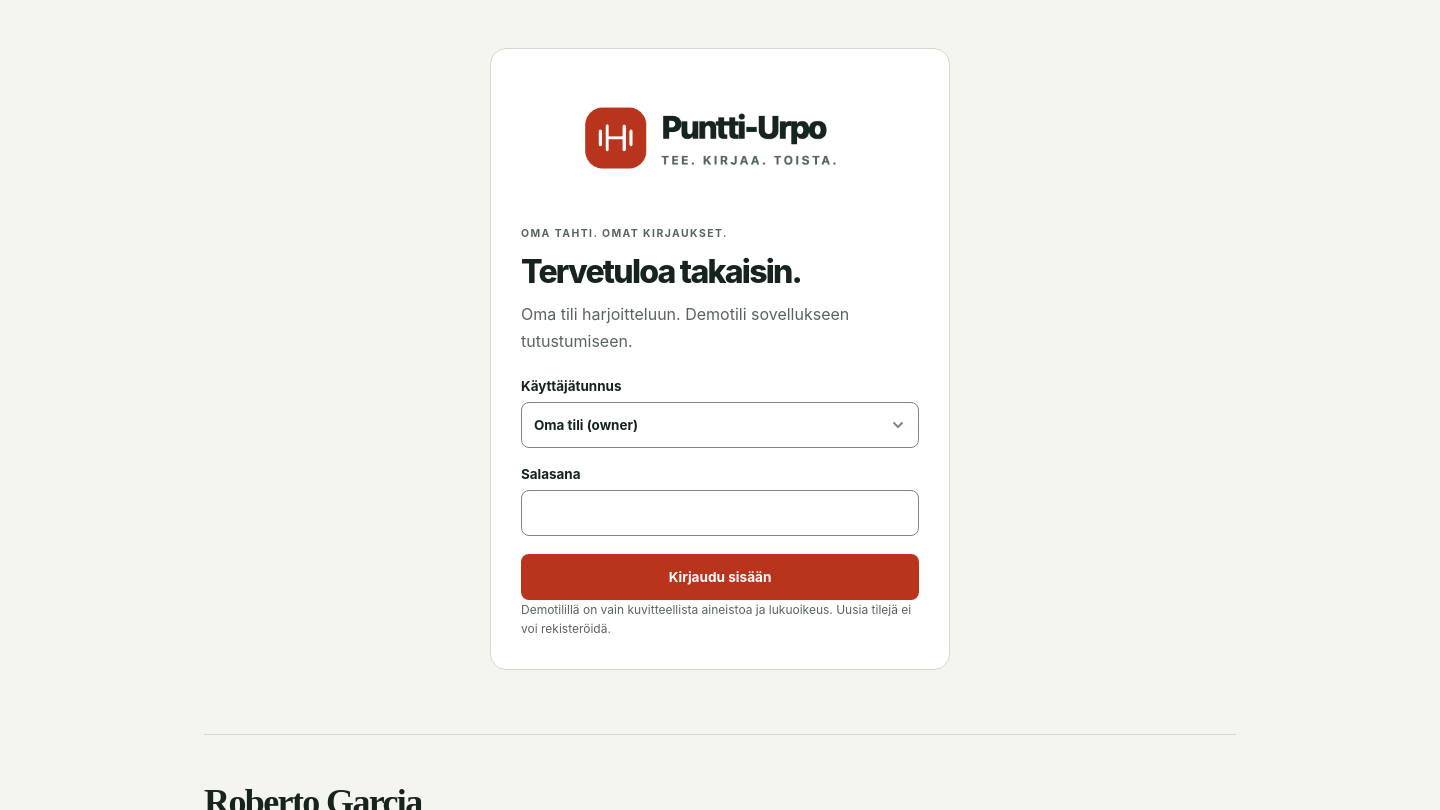
it: logs in with CSRF, refreshes the token, then clears private UI on logout
Expected: the button "Kirjaudu sisään" is shown, [521, 554, 919, 600]
Type "not-a-real-password" into the password field labelled "Salasana".
click(720, 513); type("not-a-real-password")  # box [521, 490, 919, 536]
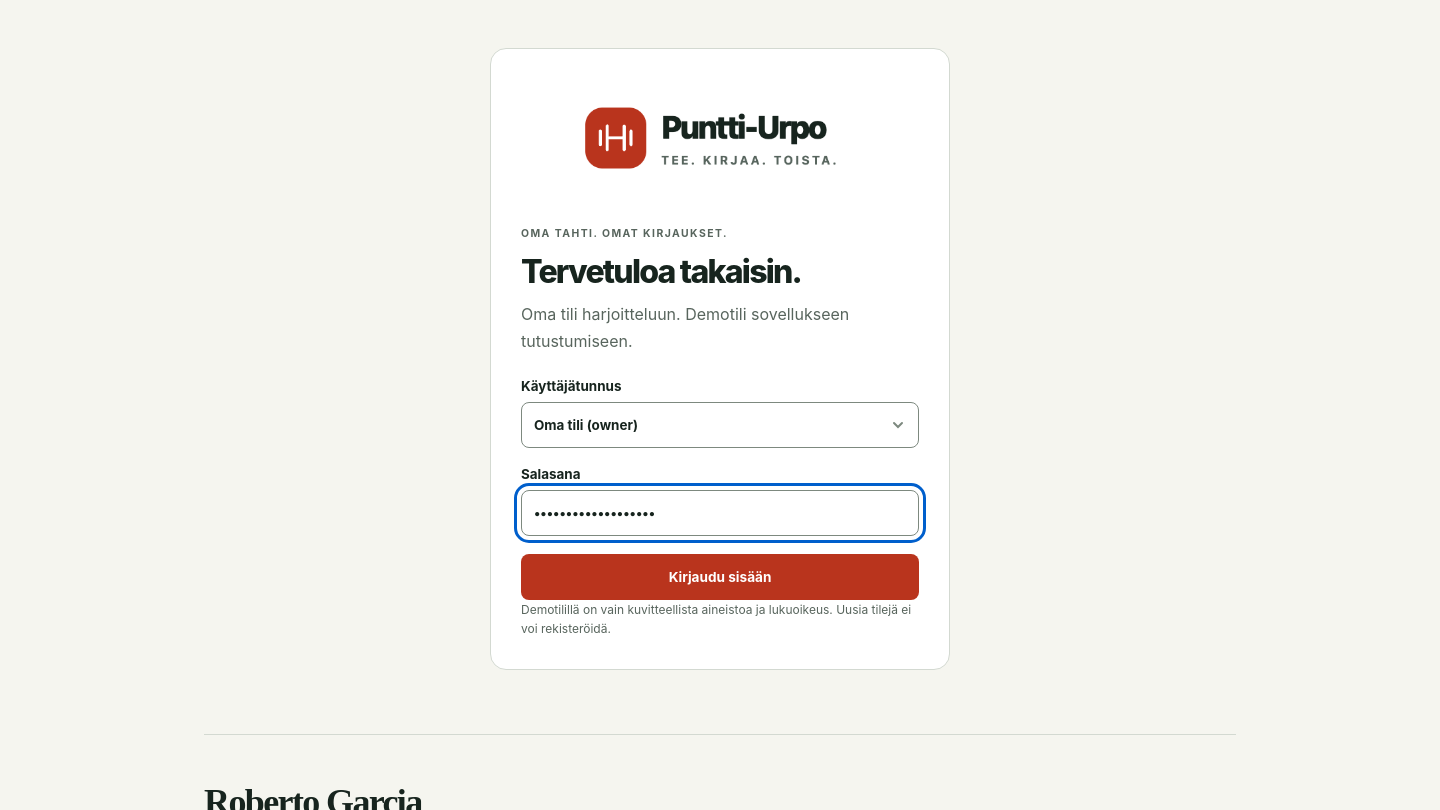
Click the button "Kirjaudu sisään".
click(720, 577)  # box [521, 554, 919, 600]
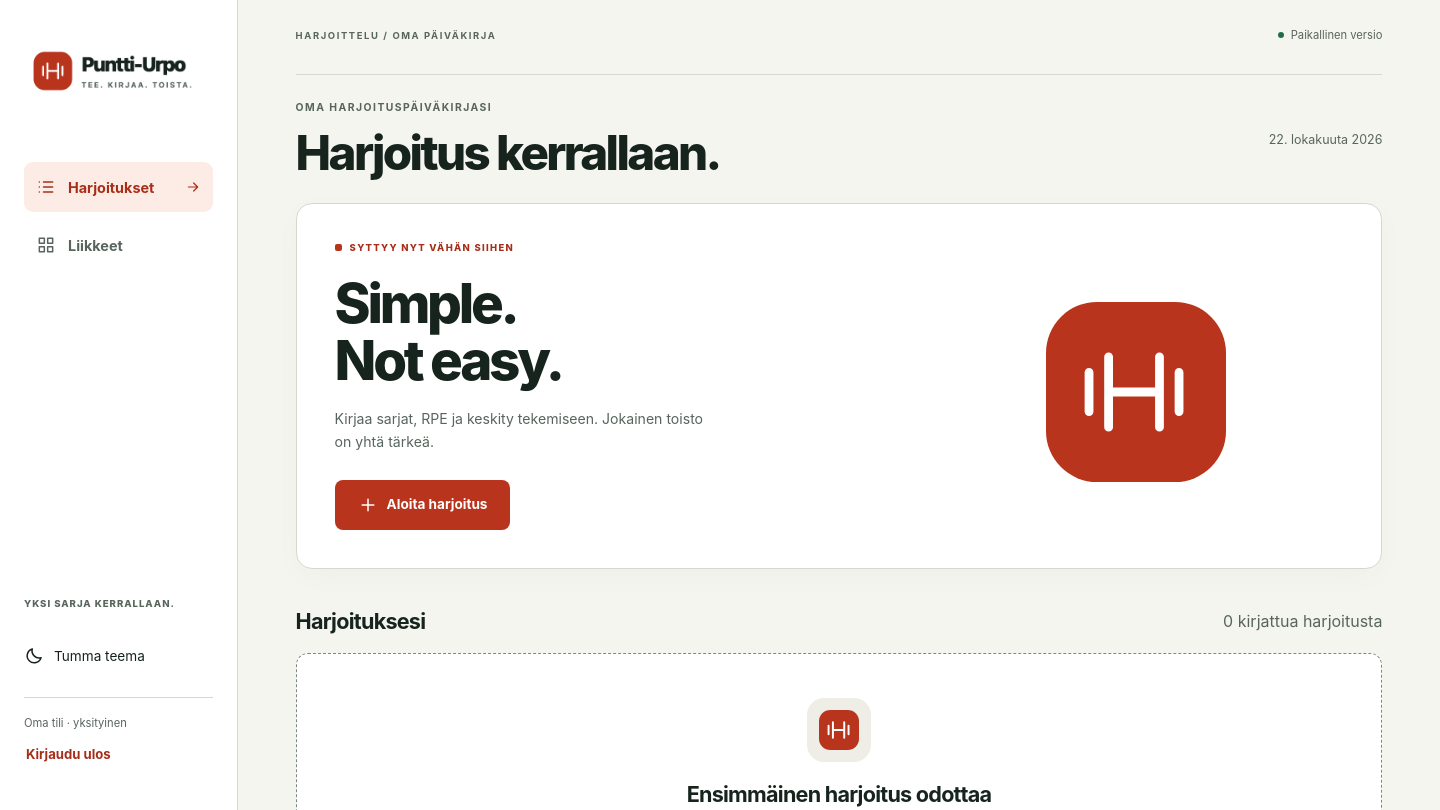
Result: the heading "Ensimmäinen harjoitus odottaa" is shown at [687, 781, 991, 807]
Click the button "Kirjaudu ulos".
click(68, 754)  # box [24, 732, 113, 776]
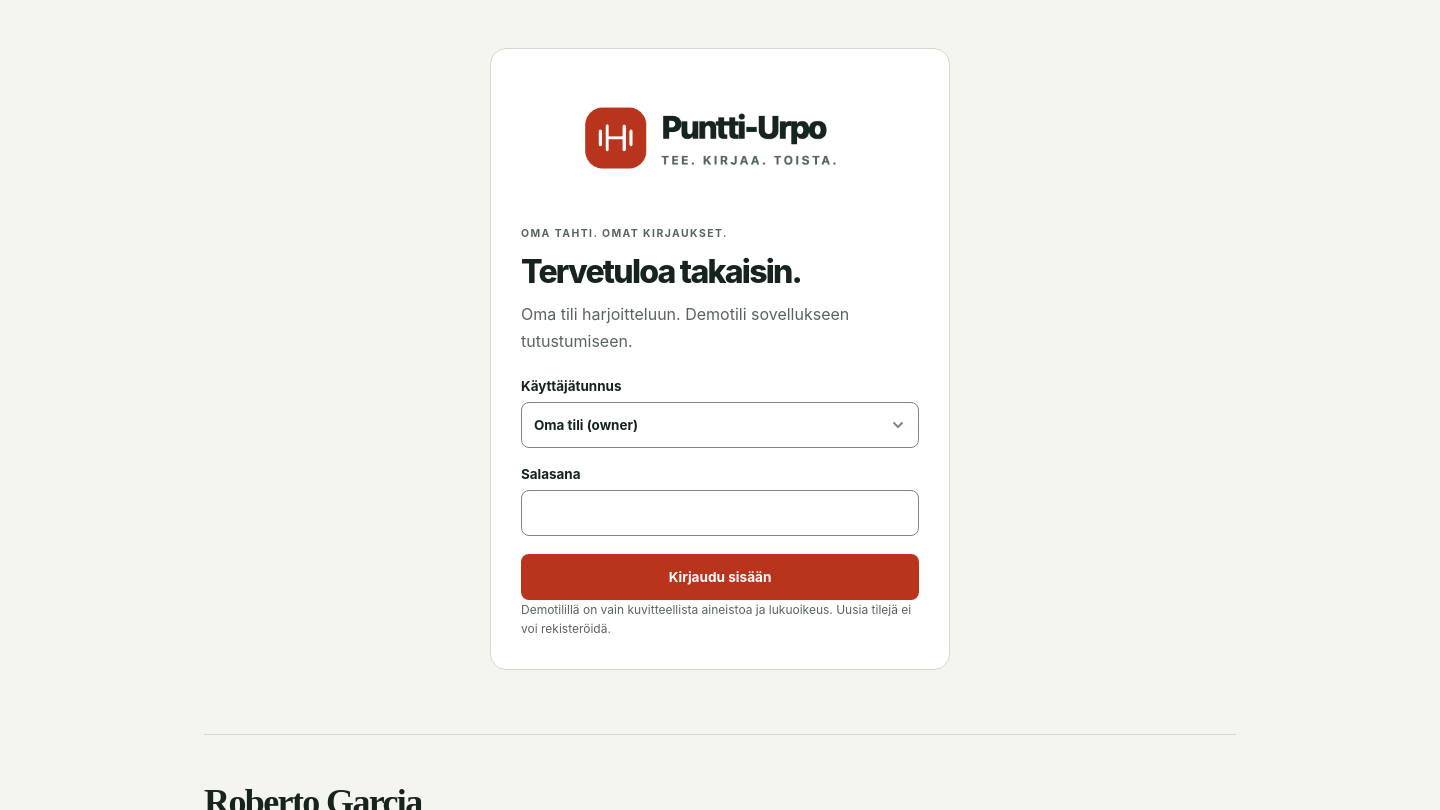
Result: the heading "Tervetuloa takaisin." is shown at [521, 252, 801, 291]
Result: the heading "Ensimmäinen harjoitus odottaa" is gone
